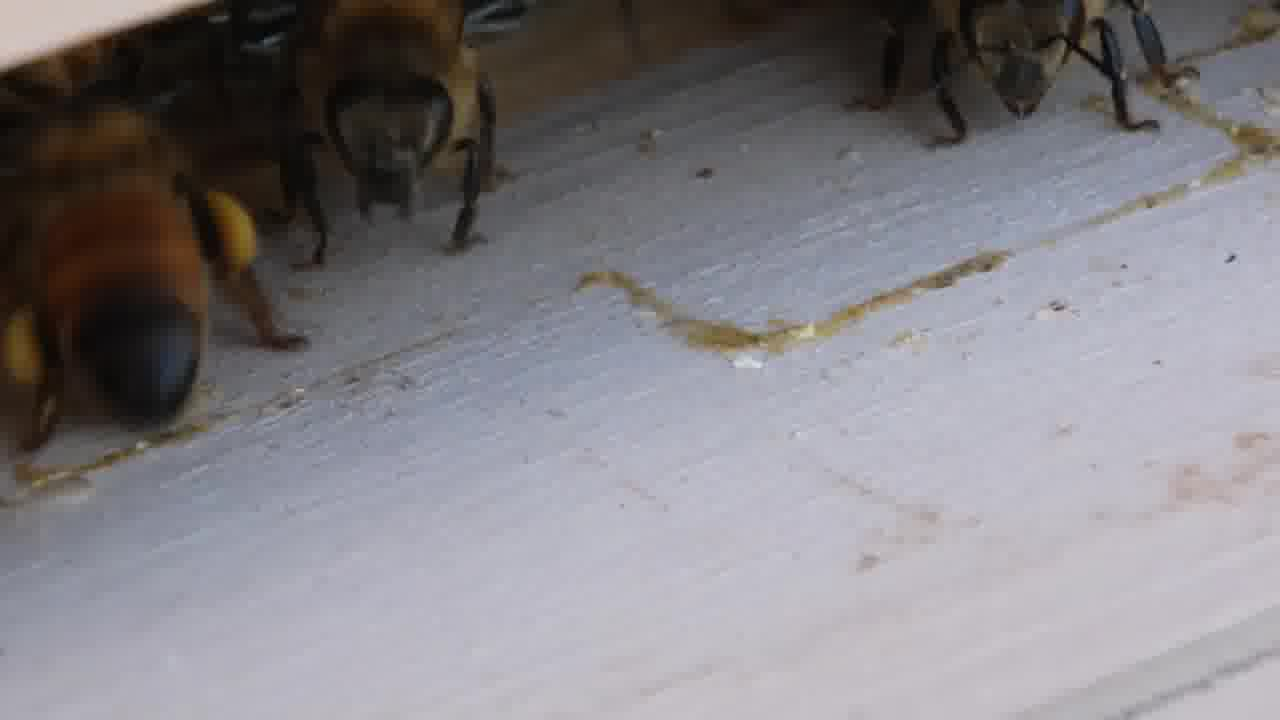pollen: (1, 77, 298, 468)
